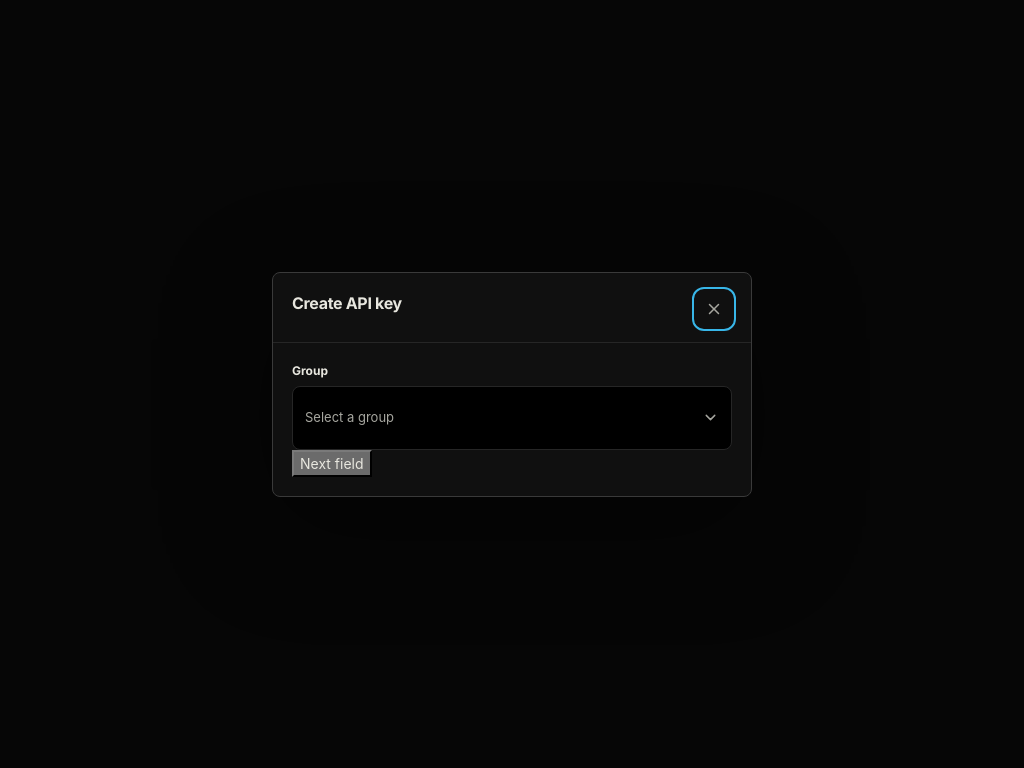
API key group picker › shows bundled company logos and the shared model list without auto-selecting a group
Click the dropdown labelled "Select a group": point(350, 417) [292, 386, 732, 450]
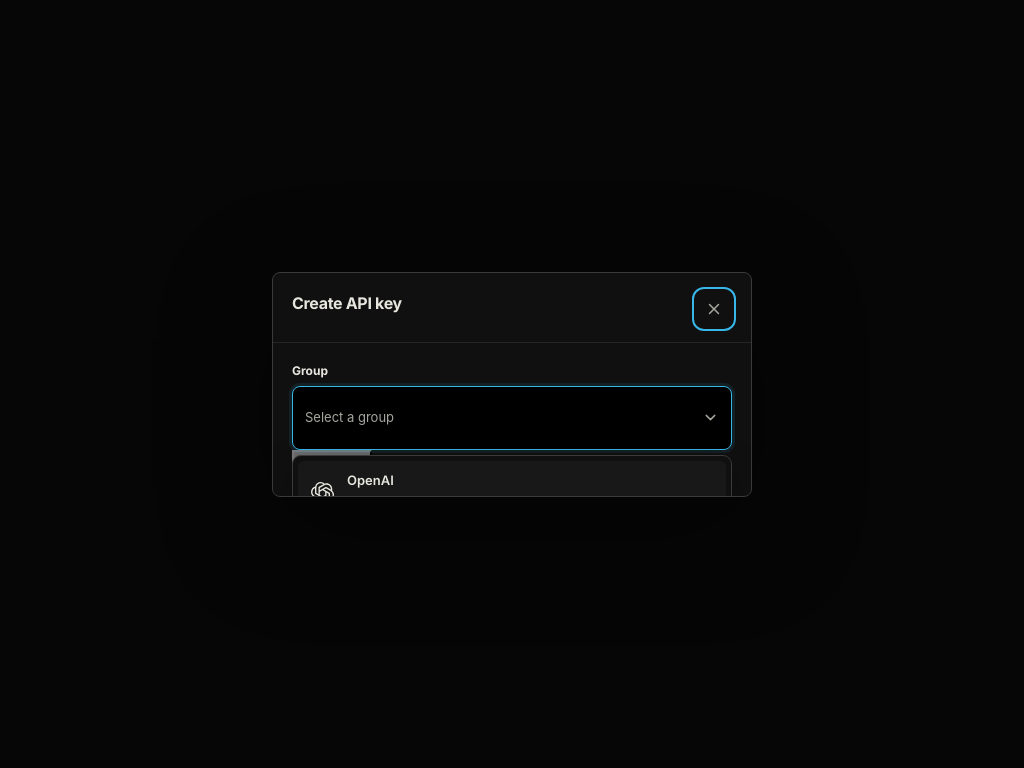
Check: the text "gpt-5.4" is not shown
Check: the icon next to "OpenAI" is shown, box [310, 482, 334, 496]
